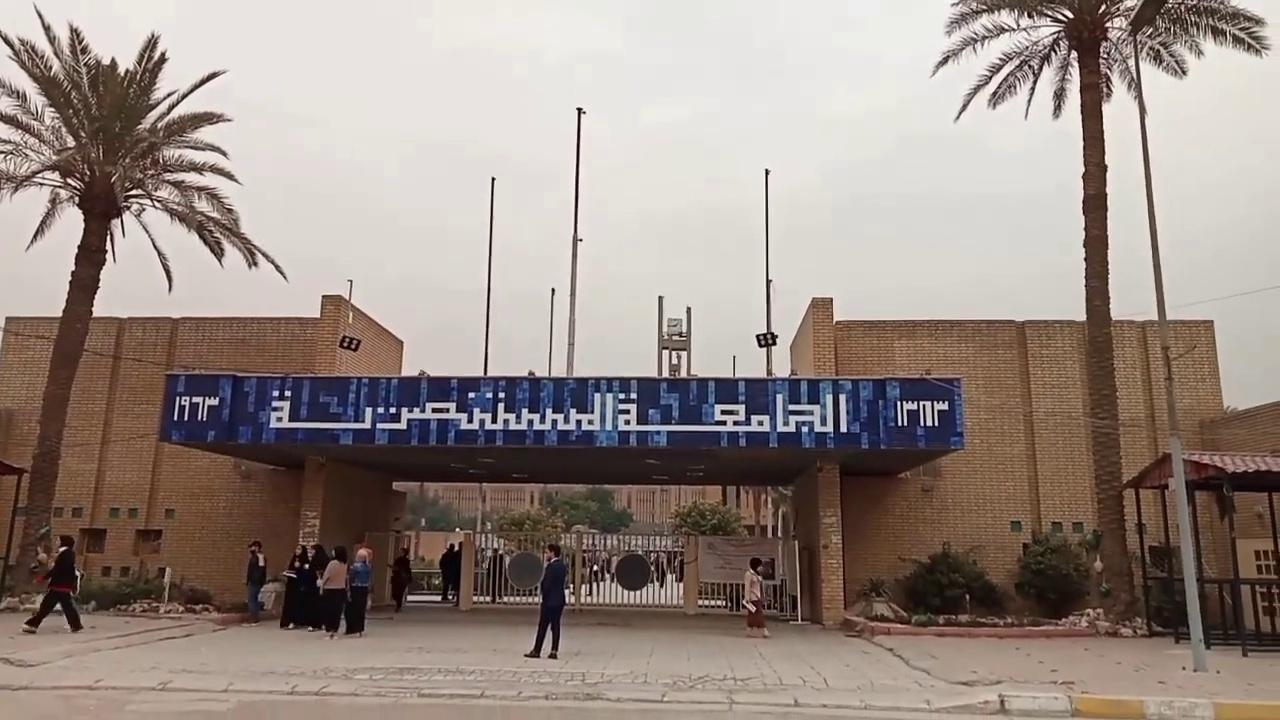person: (20, 534, 84, 633), (523, 543, 568, 659), (317, 545, 349, 638), (343, 547, 373, 637), (742, 556, 770, 638), (240, 539, 266, 626), (386, 546, 412, 612), (438, 542, 456, 601), (451, 540, 462, 605)
tree: (929, 0, 1272, 626), (0, 3, 288, 599), (666, 497, 748, 614), (893, 539, 1002, 617), (1012, 528, 1096, 618), (553, 485, 634, 534), (493, 504, 565, 556), (666, 496, 748, 538)
